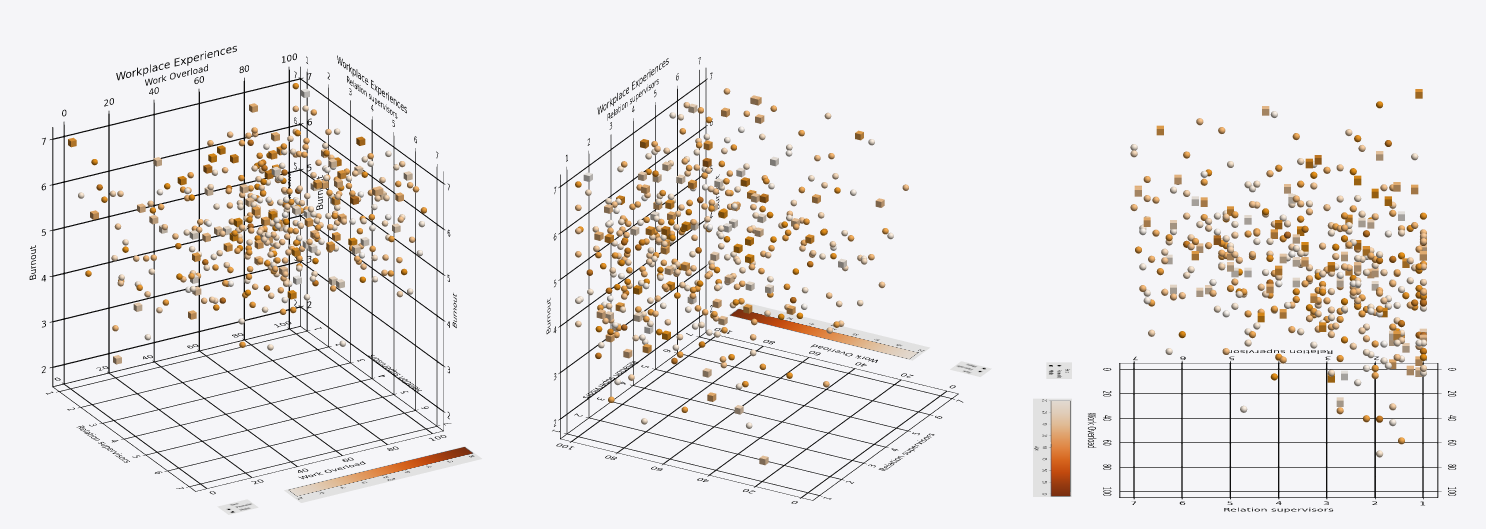
The model's file is burnout.glb.
3 renders of one model, left to right at view 1: azimuth 30°, elevation 25°; view 2: azimuth 150°, elevation 25°; view 3: azimuth 270°, elevation 25°, orthographic. The views are drawn at different scales.
Parts seen in each view (by area): view 1: xy, xz, zy, lc=_>; view 2: xz, zy, lc=_>; view 3: xz, lc=_>.
Boxes of the visible parts, x1,y1,x2,y2 form: xy: (29,46,322,386); xz: (46,321,451,494); zy: (288,55,456,430); lc=_>: (284,446,481,502); xz: (552,328,963,503); zy: (546,57,719,439); lc=_>: (728,302,929,360); xz: (1087,349,1456,512); lc=_>: (1033,398,1071,496).
Bounding box in the file's own units: 2.72 × 2.58 × 3.03.
Materials: 47 (5 with a texture image).
